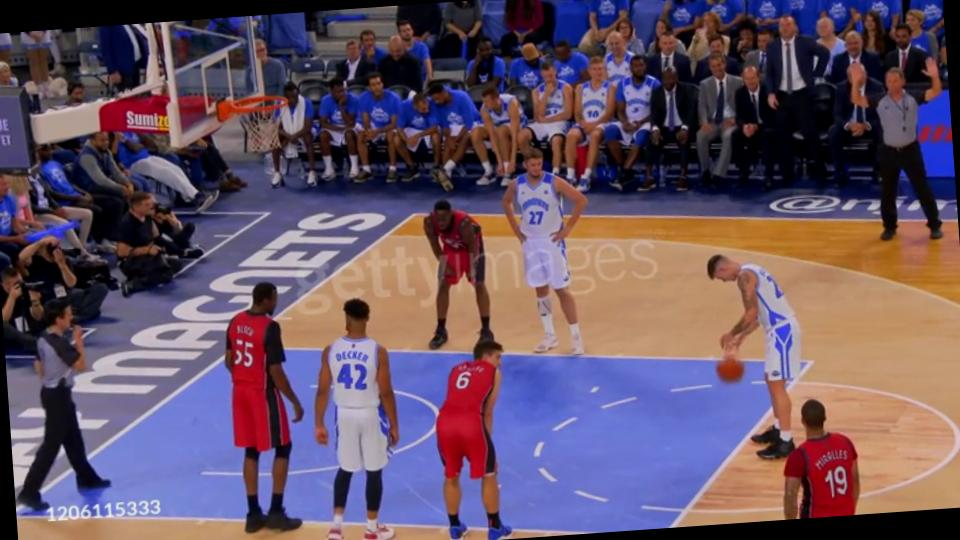hoop: (212, 86, 291, 121)
